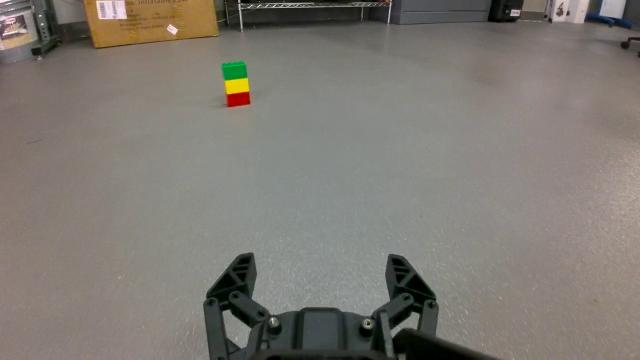lego: (221, 59, 252, 109)
